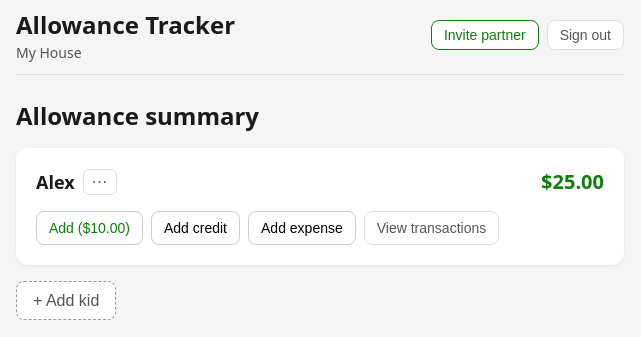
Test: App › switches to transactions view when View transactions is clicked
This screenshot has width=641, height=337.
Step 1. Click the button "View transactions" → (432, 228), box [364,211,499,245]
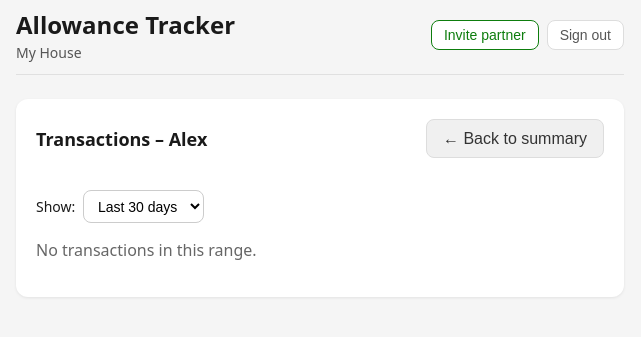
Result: the button "← Back to summary" is shown at [426,119,604,158]
